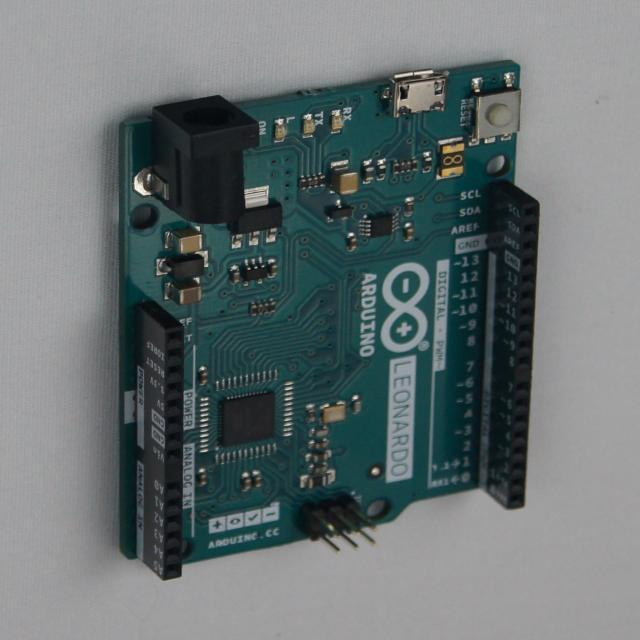Arduino-leonardo: (120, 61, 539, 580)
